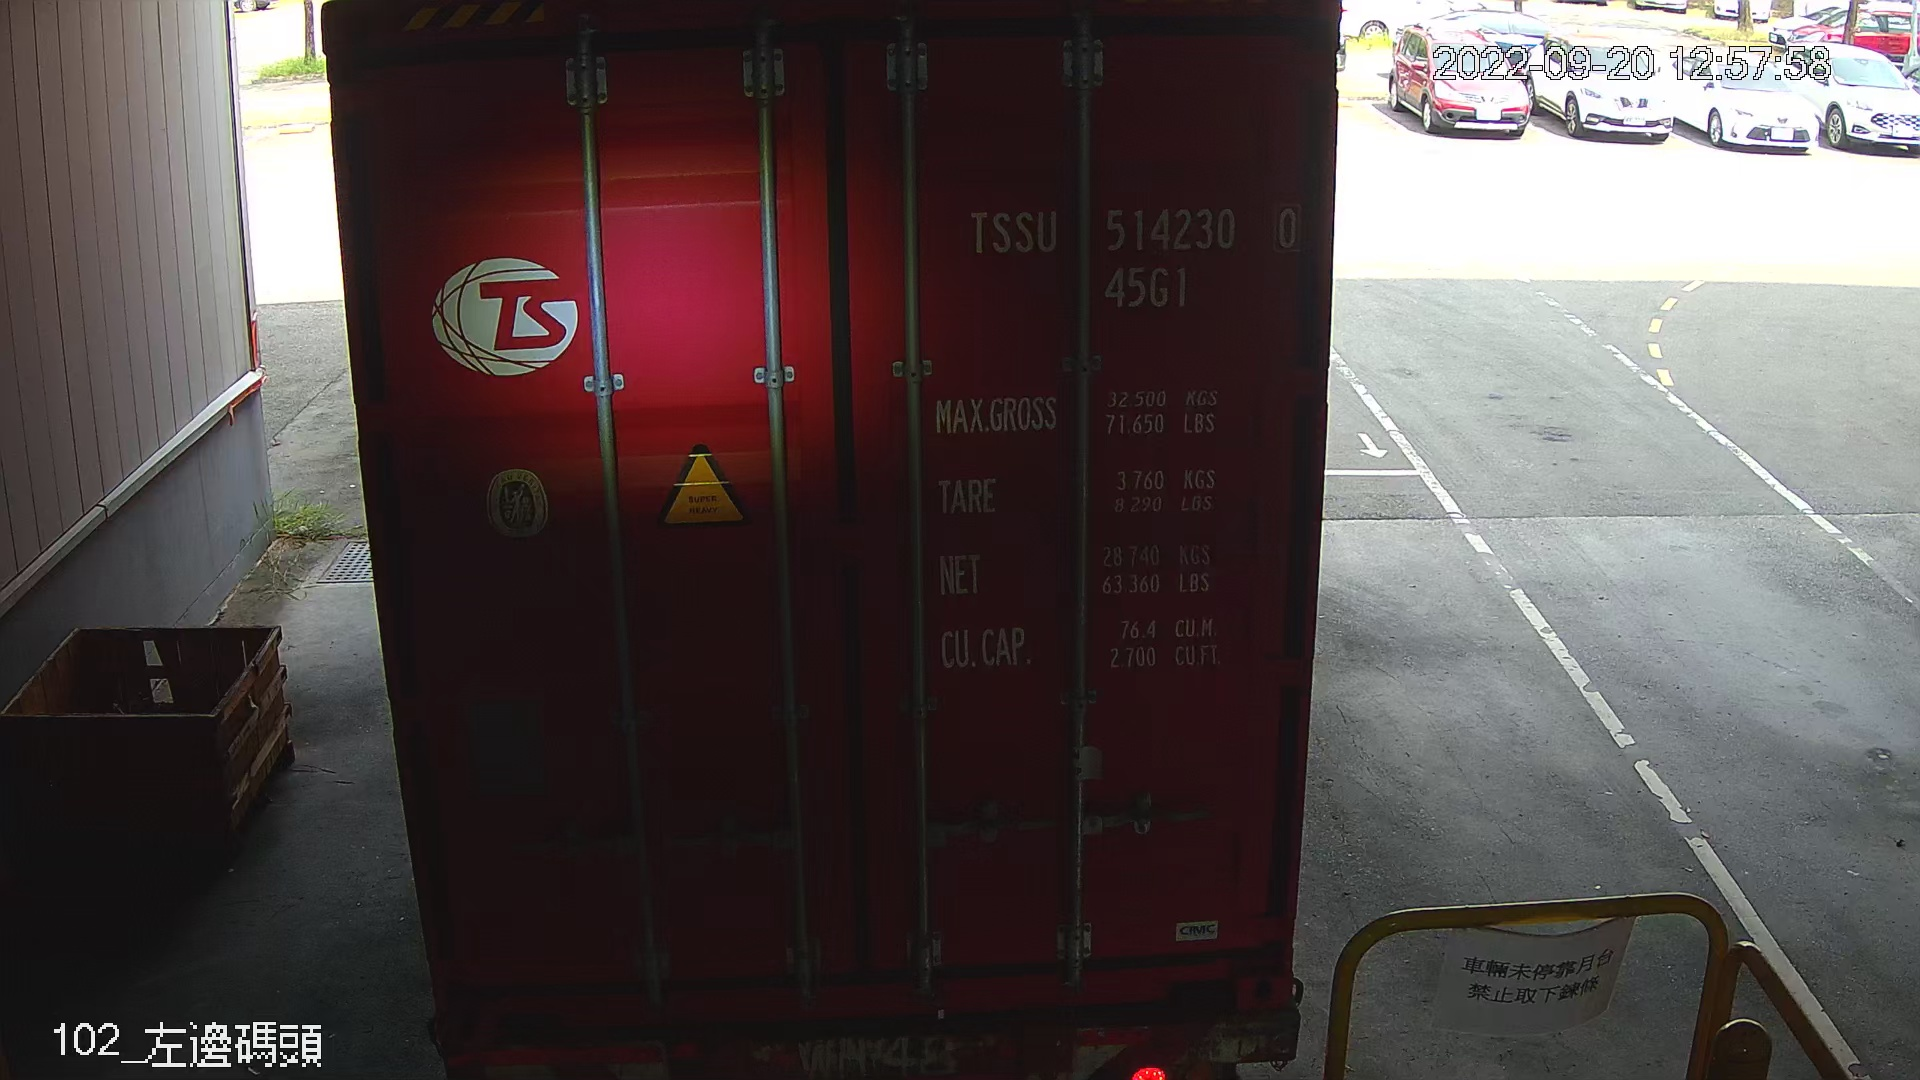container: (953, 186, 1312, 328)
